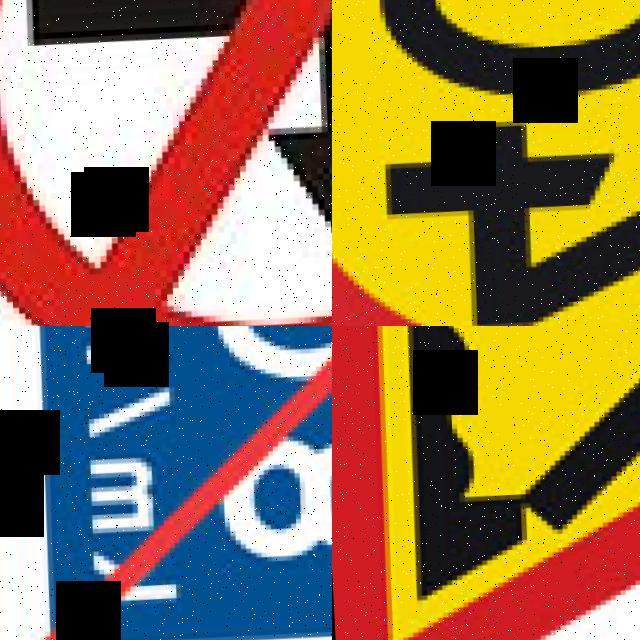133: (332, 326, 640, 640)
55: (332, 0, 640, 326)
No Left turn: (0, 0, 332, 326)
end of the speed limit: (0, 326, 332, 640)
